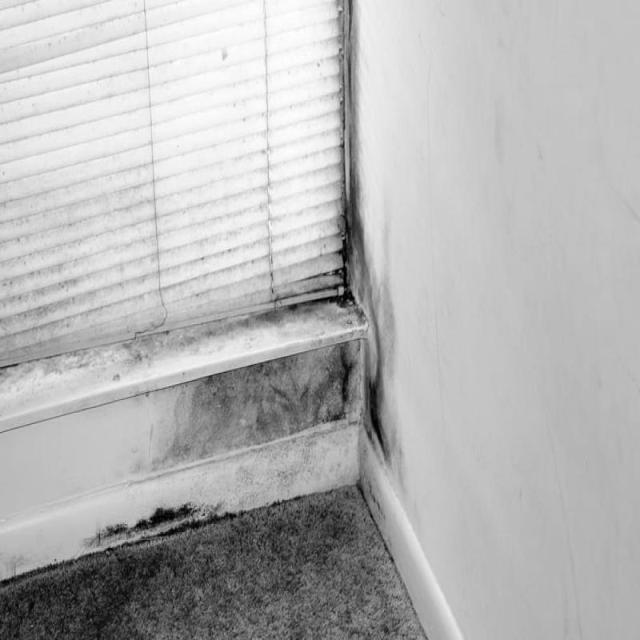stain marks: (75, 1, 412, 559)
